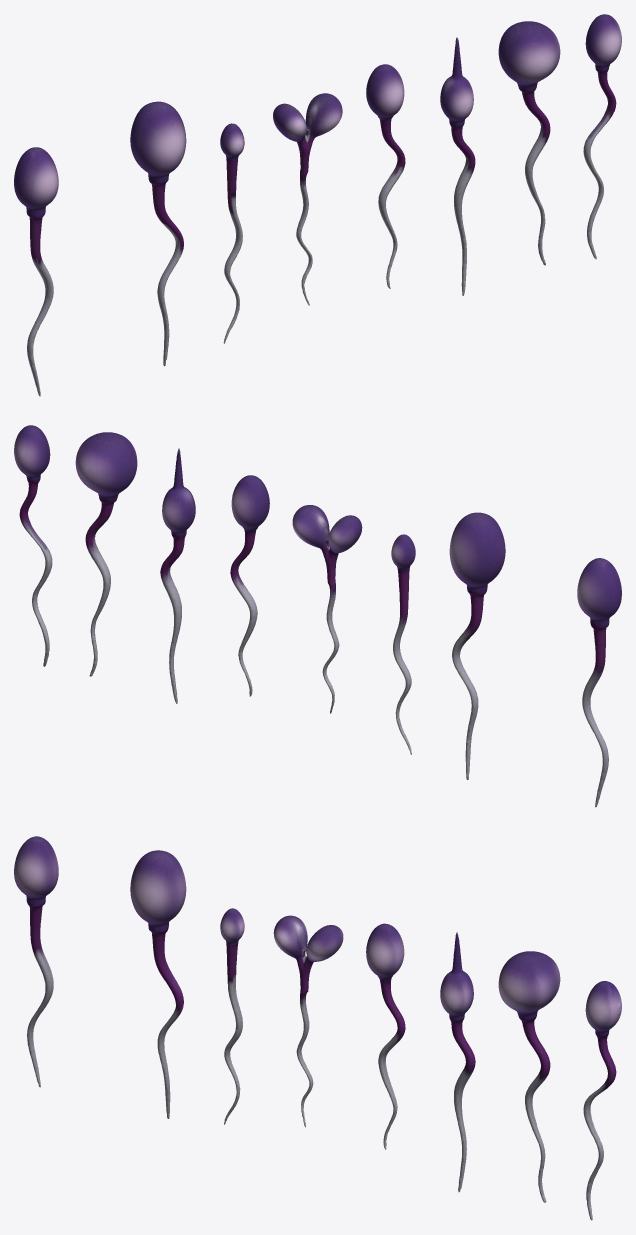
Rendered from Meshy_AI_ESPERMATOZOIDE_0915092008_texture-v1.glb.
3 renders of one model, top to bottom at view 1: azimuth 30°, elevation 25°; view 2: azimuth 150°, elevation 25°; view 3: azimuth 330°, elevation 25°, orthographic.
Size of the model in its own units: 1.91 by 0.8031 by 0.1769.
1 material, 1 textured.
